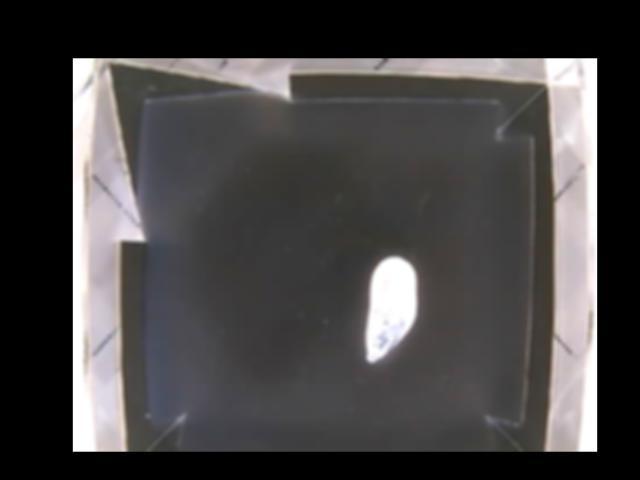Shell: (360, 256, 417, 362)
